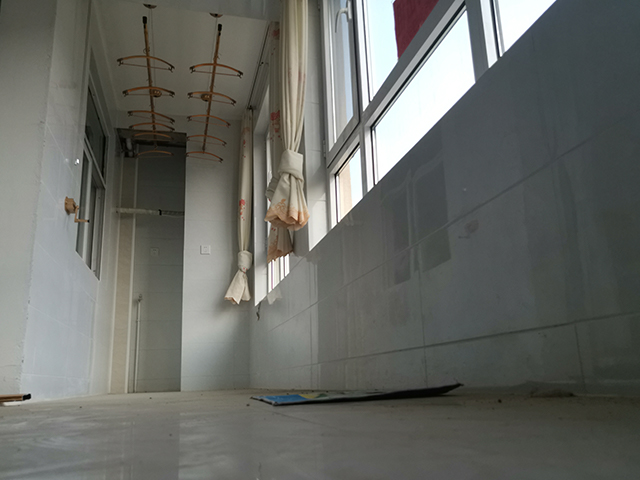carpet: (248, 381, 463, 408)
